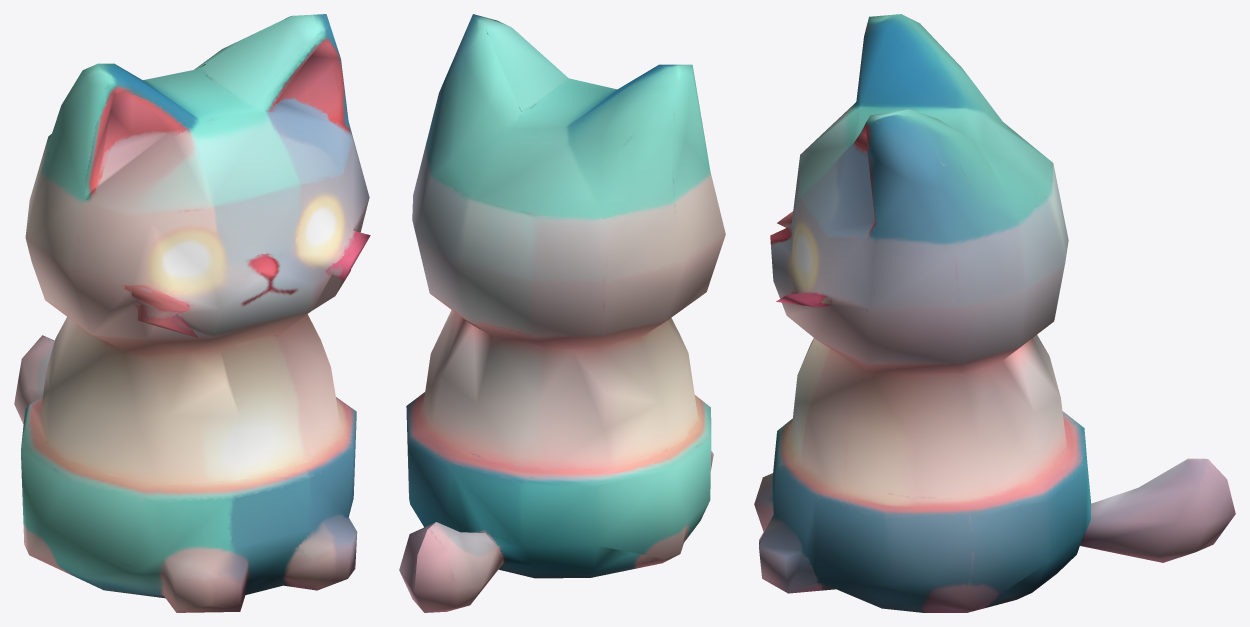
The model's file is cat-night-lamp.glb.
3 views of the same model, side by side, from view 1: azimuth 30°, elevation 25°; view 2: azimuth 150°, elevation 25°; view 3: azimuth 270°, elevation 25° (orthographic). The views are drawn at different scales.
Parts seen in each view (by area): view 1: geometry_0.001; view 2: geometry_0.001; view 3: geometry_0.001.
Part boxes in pixels (<box>): geometry_0.001: <box>14,14,370,612</box>; geometry_0.001: <box>399,14,725,612</box>; geometry_0.001: <box>754,14,1235,612</box>.
Size of the model in its own units: 0.6023 by 1 by 0.8774.
1 material, 1 textured.
